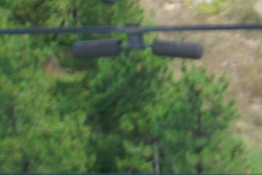damper: (69, 18, 205, 61)
